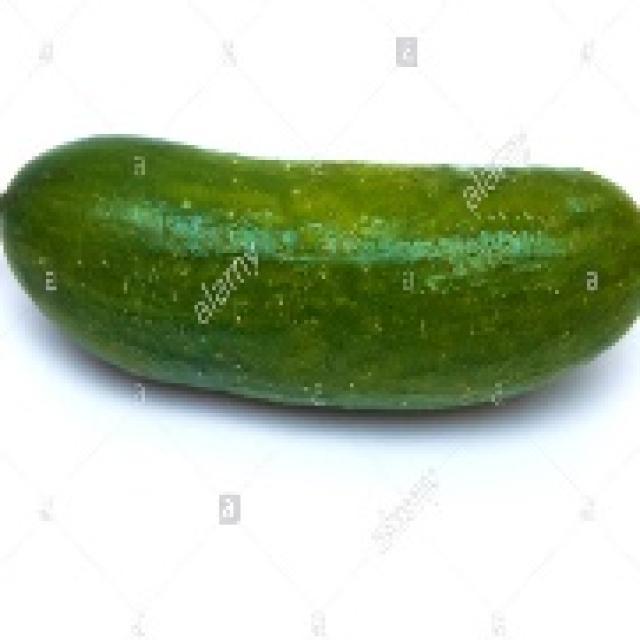cucumber: (0, 126, 640, 410)
